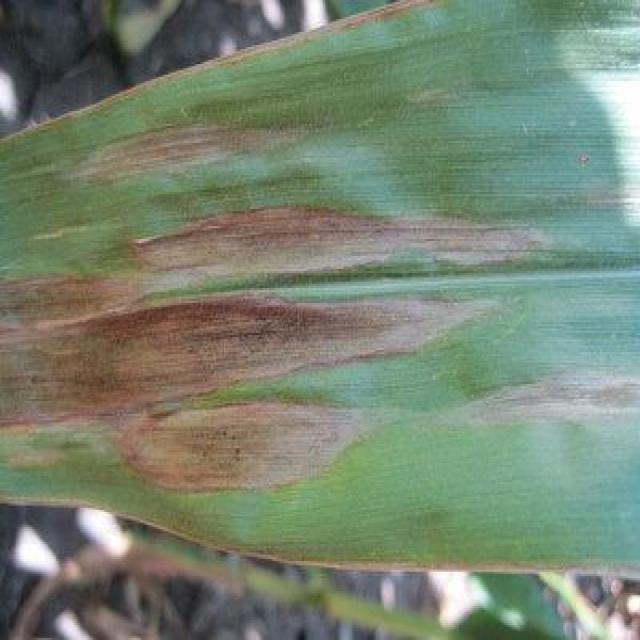blight: (0, 204, 473, 466)
